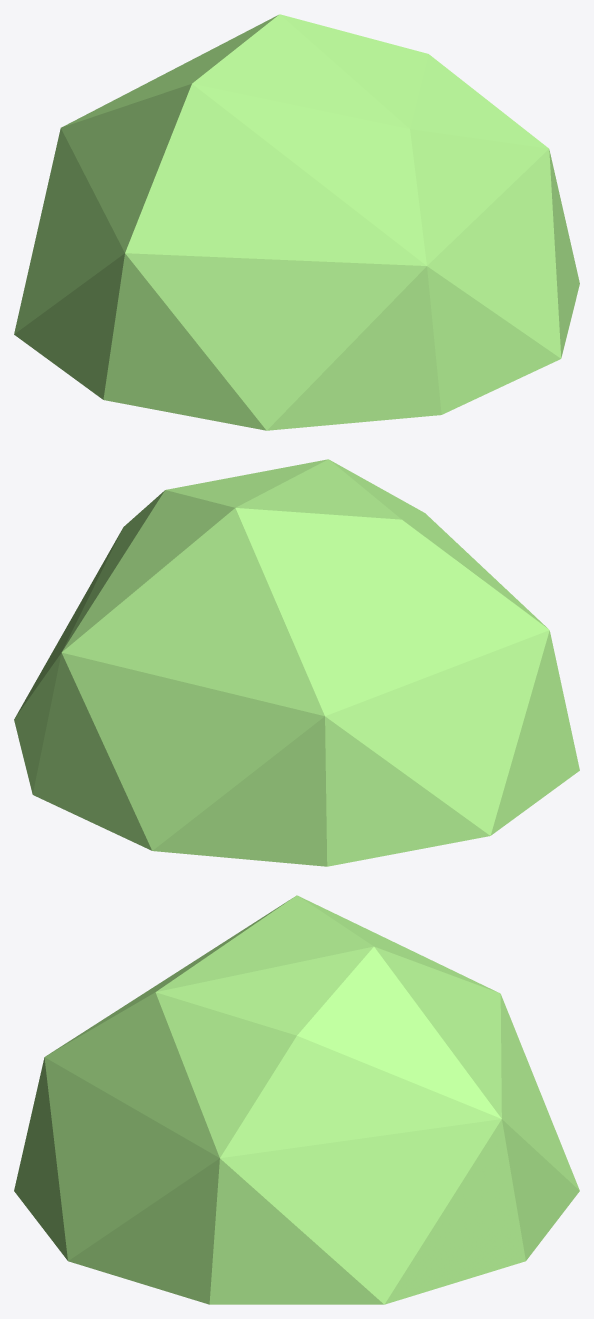
The model's file is Bush_h_m_01.fbx.
3 renders of one model, top to bottom at view 1: azimuth 30°, elevation 25°; view 2: azimuth 150°, elevation 25°; view 3: azimuth 270°, elevation 25°, orthographic. The views are drawn at different scales.
Visible parts, largest first — view 1: Bush_h_m_01; view 2: Bush_h_m_01; view 3: Bush_h_m_01.
Boxes of the visible parts, x1,y1,x2,y2 form: Bush_h_m_01: (14,14,579,430); Bush_h_m_01: (14,459,579,866); Bush_h_m_01: (14,895,579,1304).
Size of the model in its own units: 117 by 61.25 by 123.
